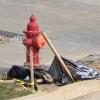a fire hydrant: (20, 14, 48, 66)
